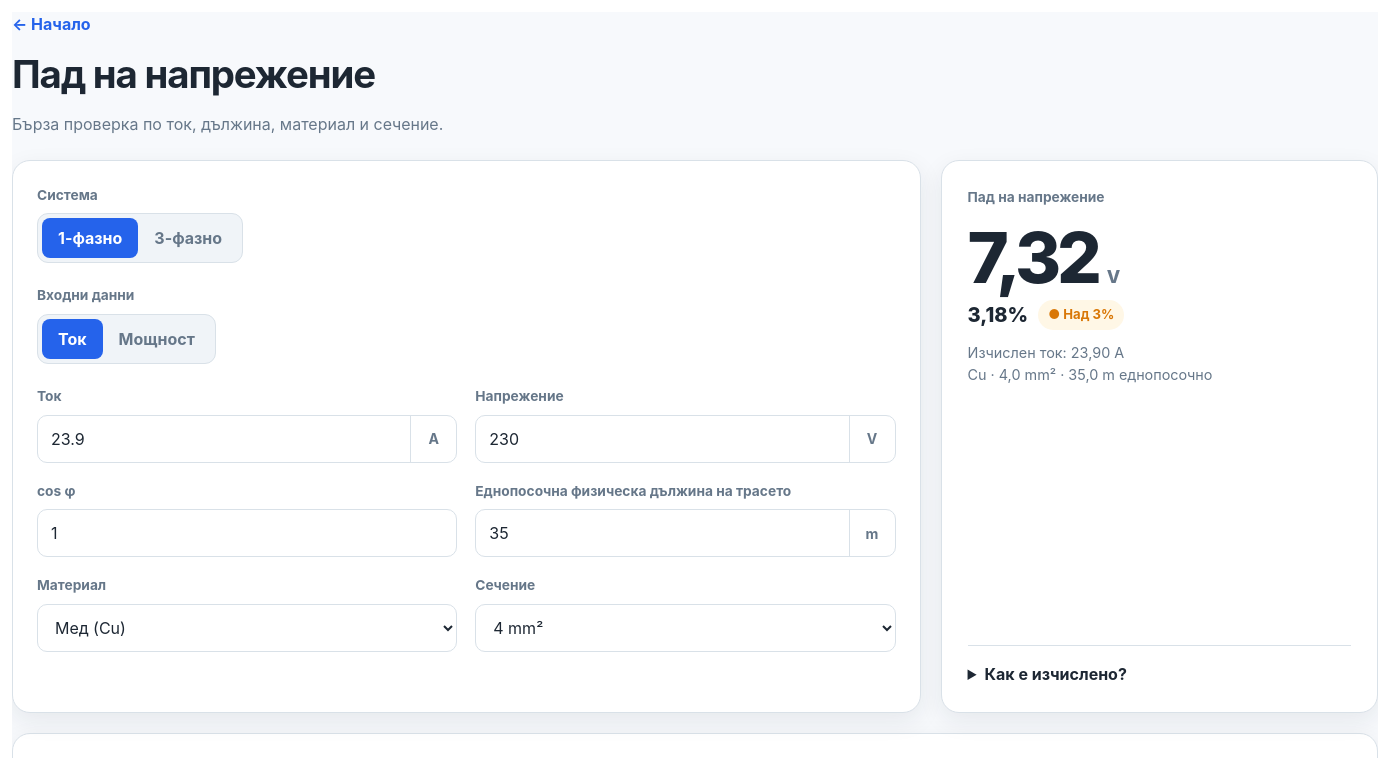
Test case: VoltageDropCalculator › clears all dependent output and comparison rows for invalid input
Clear the field with id "drop-current" at coordinates (224, 438), box [38,416,410,462]
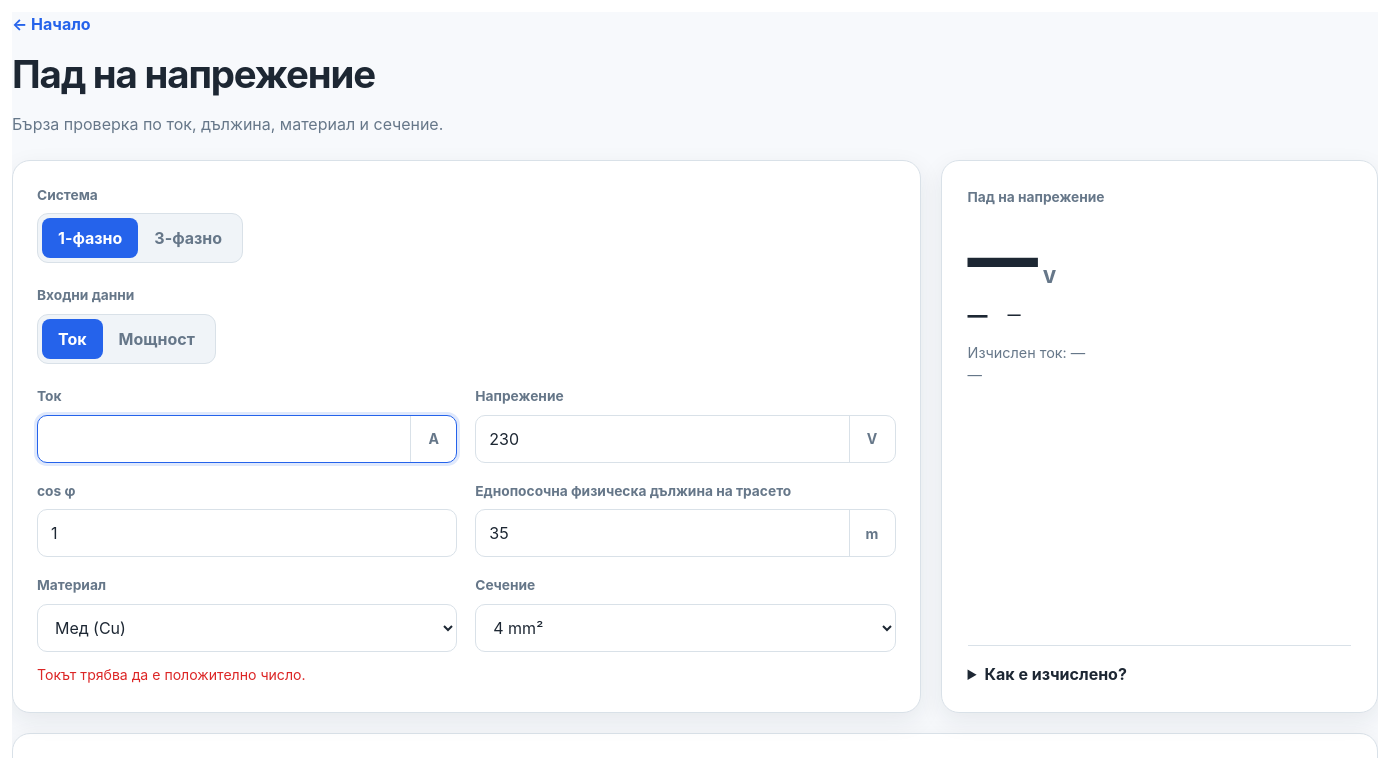
Result: the text with id "drop-result-volts" reads "—" at [968,215,1034,300]
Result: the text with id "drop-result-percent" reads "—" at [968,303,988,327]
Result: the text with id "drop-result-current" shows "—" at [1071,344,1085,361]
